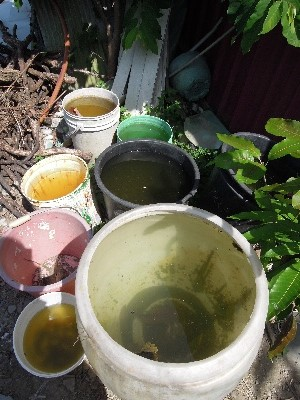bucket: (72, 201, 269, 397), (90, 137, 207, 221), (1, 207, 94, 296), (12, 291, 98, 379), (19, 153, 92, 217), (61, 85, 126, 154), (114, 112, 173, 162)
